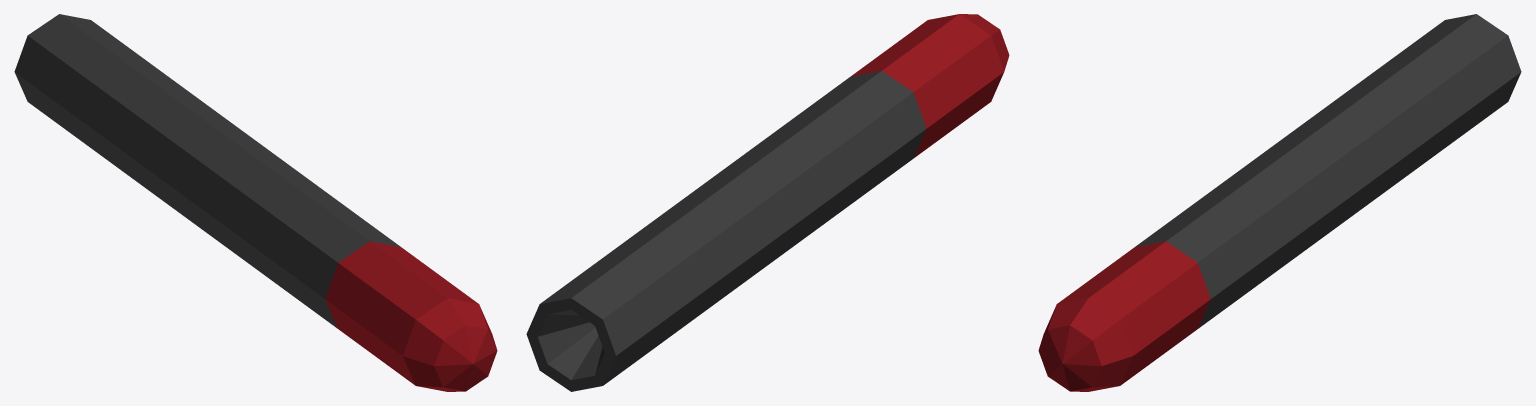
Rendered from Missile.fbx.
3 views of the same model, side by side, from view 1: azimuth 30°, elevation 25°; view 2: azimuth 150°, elevation 25°; view 3: azimuth 330°, elevation 25° (orthographic).
Visible parts, largest first — view 1: Missile; view 2: Missile; view 3: Missile.
Boxes of the visible parts, x1,y1,x2,y2 form: Missile: (14,14,497,391); Missile: (526,14,1009,391); Missile: (1038,14,1521,391).
Size of the model in its own units: 200 by 200 by 1600.
